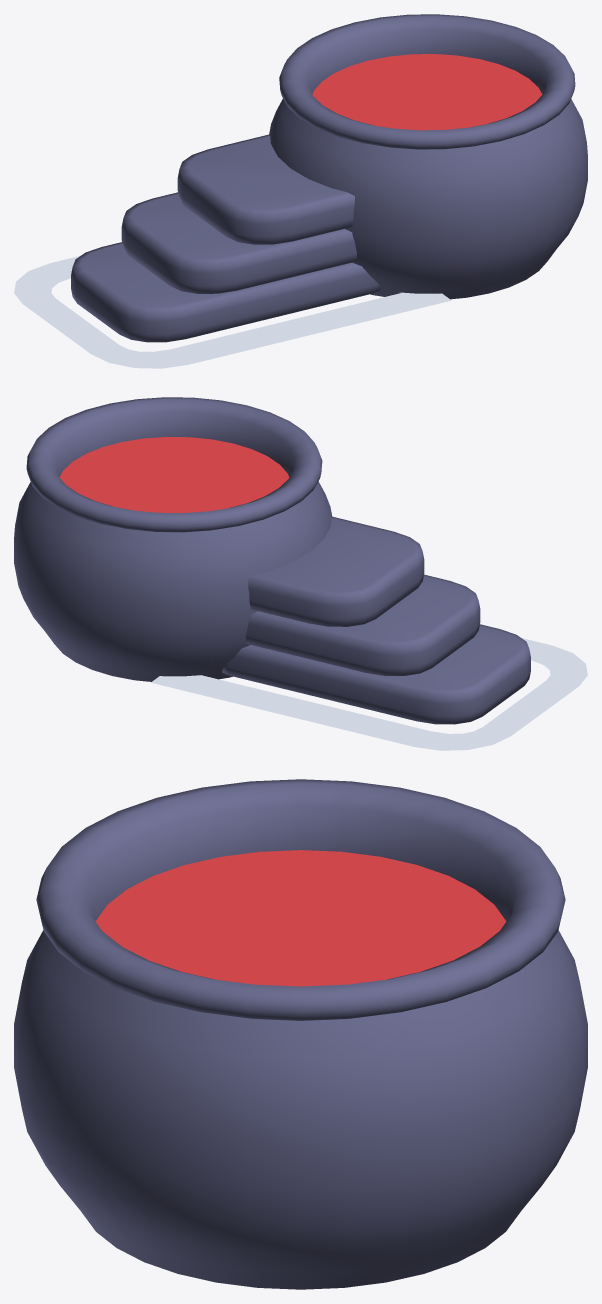
The model's file is Melt_Station.fbx.
3 renders of one model, top to bottom at view 1: azimuth 30°, elevation 25°; view 2: azimuth 150°, elevation 25°; view 3: azimuth 270°, elevation 25°, orthographic. The views are drawn at different scales.
Parts seen in each view (by area): view 1: cauldron, Melt_Station, highlight; view 2: cauldron, Melt_Station, highlight; view 3: cauldron.
Boxes of the visible parts, x1,y1,x2,y2 form: cauldron: [269, 14, 587, 299]; Melt_Station: [71, 134, 380, 342]; highlight: [14, 256, 451, 368]; cauldron: [14, 397, 332, 681]; Melt_Station: [222, 516, 530, 724]; highlight: [151, 638, 587, 750]; cauldron: [14, 779, 587, 1289].
Size of the model in its own units: 601 by 196 by 329.
